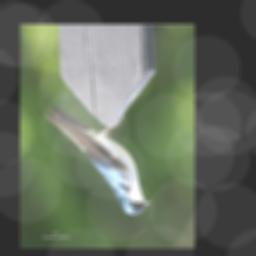Swallow: (44, 105, 151, 215)
